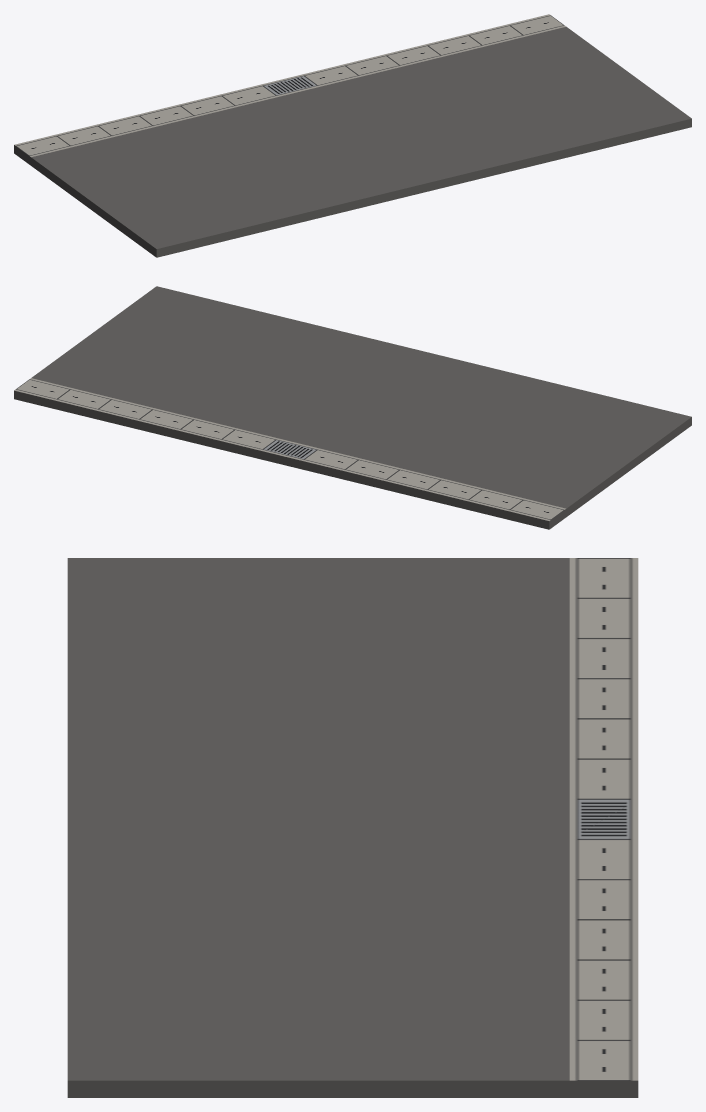
File: SM_Ground_Alley_300x650_01.fbx
The picture shows the model from 3 angles, top to bottom: view 1: azimuth 30°, elevation 25°; view 2: azimuth 150°, elevation 25°; view 3: azimuth 270°, elevation 25°; orthographic projection. The views are drawn at different scales.
Visible parts, largest first — view 1: SM_Ground_Alley_300x650_01; view 2: SM_Ground_Alley_300x650_01; view 3: SM_Ground_Alley_300x650_01.
Boxes of the visible parts, x1,y1,x2,y2 form: SM_Ground_Alley_300x650_01: (14,14,691,257); SM_Ground_Alley_300x650_01: (14,286,691,529); SM_Ground_Alley_300x650_01: (67,558,638,1097).
Size of the model in its own units: 6.5 by 0.1 by 3.
Materials: 1 (1 with a texture image).
